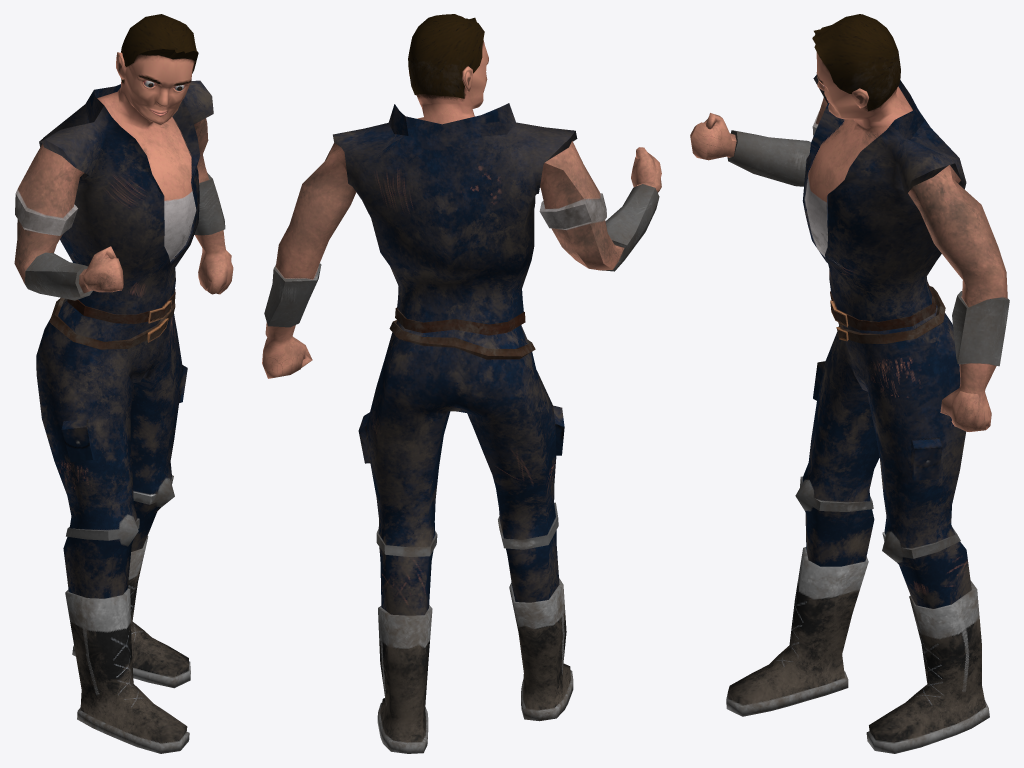
The model's file is Anim_puerta_mal_jugador.0033.obj.
3 views of the same model, side by side, from view 1: azimuth 30°, elevation 25°; view 2: azimuth 150°, elevation 25°; view 3: azimuth 270°, elevation 25° (orthographic). The views are drawn at different scales.
Visible parts, largest first — view 1: polySurface1; view 2: polySurface1; view 3: polySurface1.
Boxes of the visible parts, bbox=[...] form: polySurface1: bbox=[14, 14, 233, 753]; polySurface1: bbox=[262, 14, 661, 753]; polySurface1: bbox=[690, 14, 1009, 753].
Bounding box in the file's own units: 4.11 × 9.57 × 3.89.
